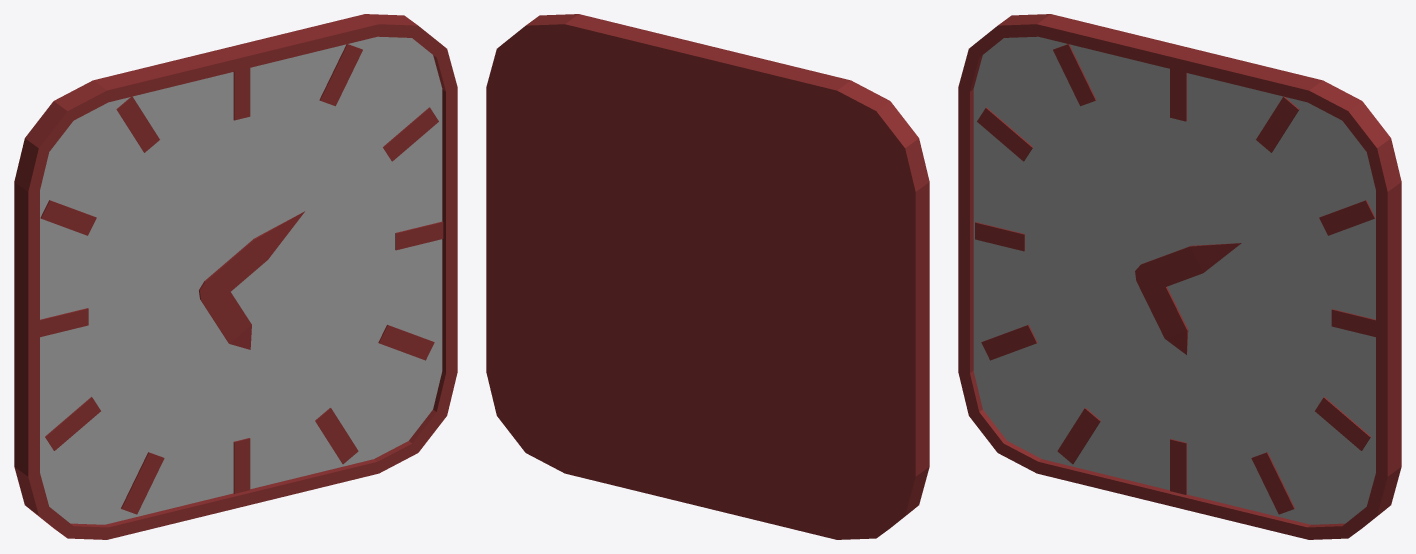
Rendered from Clock_2.fbx.
3 views of the same model, side by side, from view 1: azimuth 30°, elevation 25°; view 2: azimuth 150°, elevation 25°; view 3: azimuth 330°, elevation 25° (orthographic).
Parts seen in each view (by area): view 1: Clock_2; view 2: Clock_2; view 3: Clock_2.
Boxes of the visible parts, x1=… form: Clock_2: x1=14, y1=14, x2=457, y2=539; Clock_2: x1=486, y1=14, x2=929, y2=539; Clock_2: x1=958, y1=14, x2=1401, y2=539.
Size of the model in its own units: 0.3673 by 0.3673 by 0.0207.
